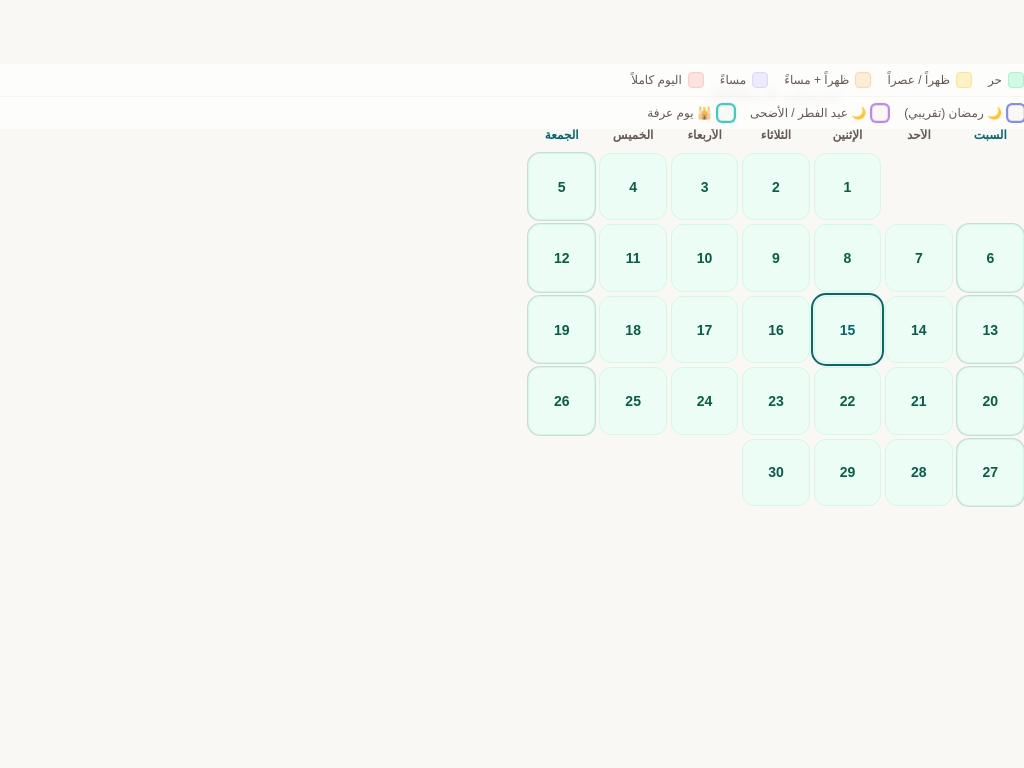
CalendarGrid details › lets today be opened, but not yesterday
This screenshot has width=1024, height=768.
Click the button "14".
click(919, 330)  # box 885,296 -> 953,363
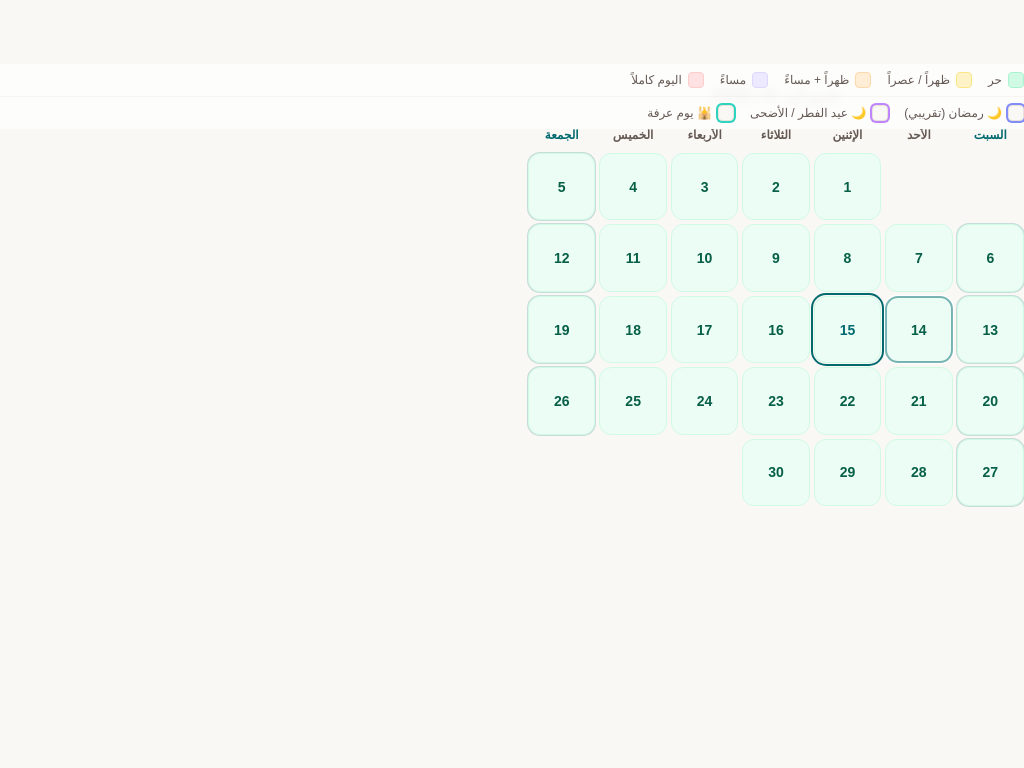
Expected: the text "إغلاق" is not shown
Click the button "15".
click(847, 330)  # box 814,296 -> 881,363
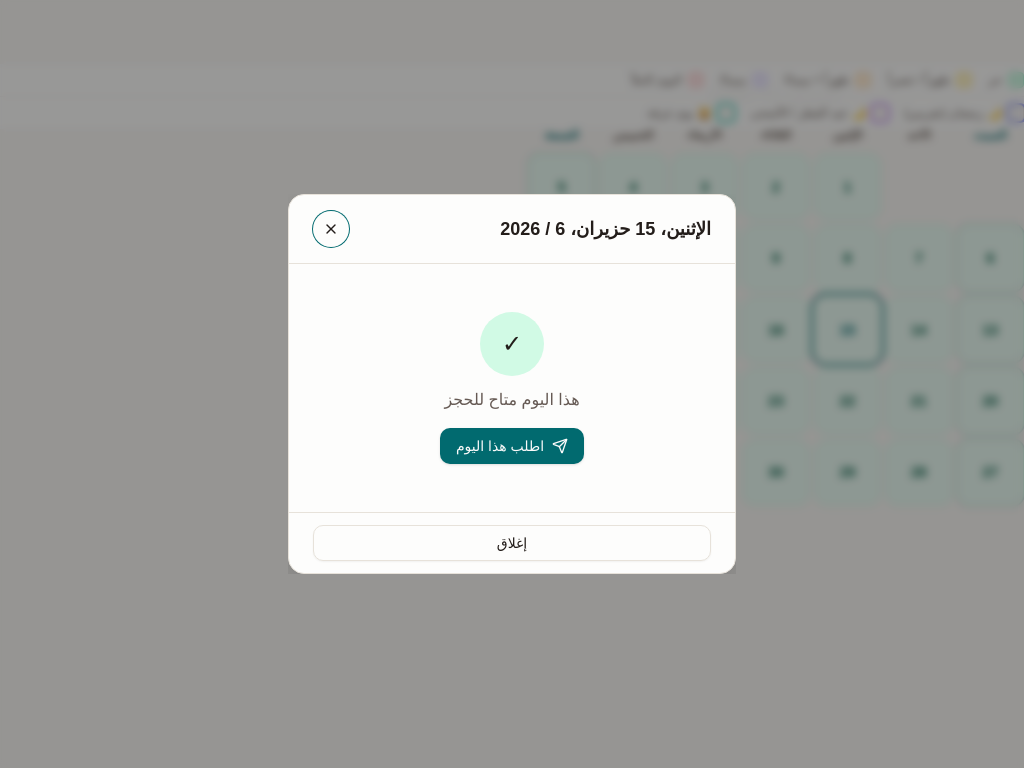
Expected: the button "إغلاق" is shown, 313,525 -> 711,561
